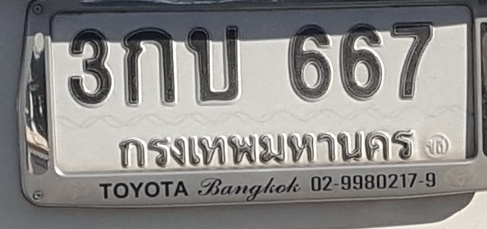num3: (64, 26, 115, 109)
txt01: (120, 24, 181, 108)
txt21: (185, 24, 242, 106)
